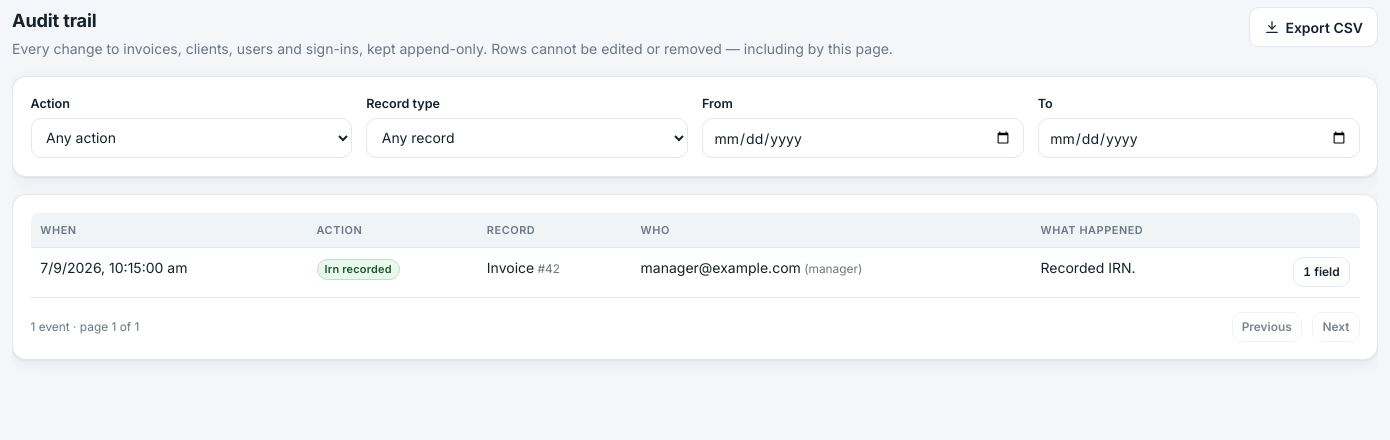
Test: audit trail page › renders a recorded value that is not a from/to pair
What coordinates should you click on to do the following:
click the button "1 field"
I would click on:
 (1322, 272)
Its box is [1293, 257, 1350, 287].
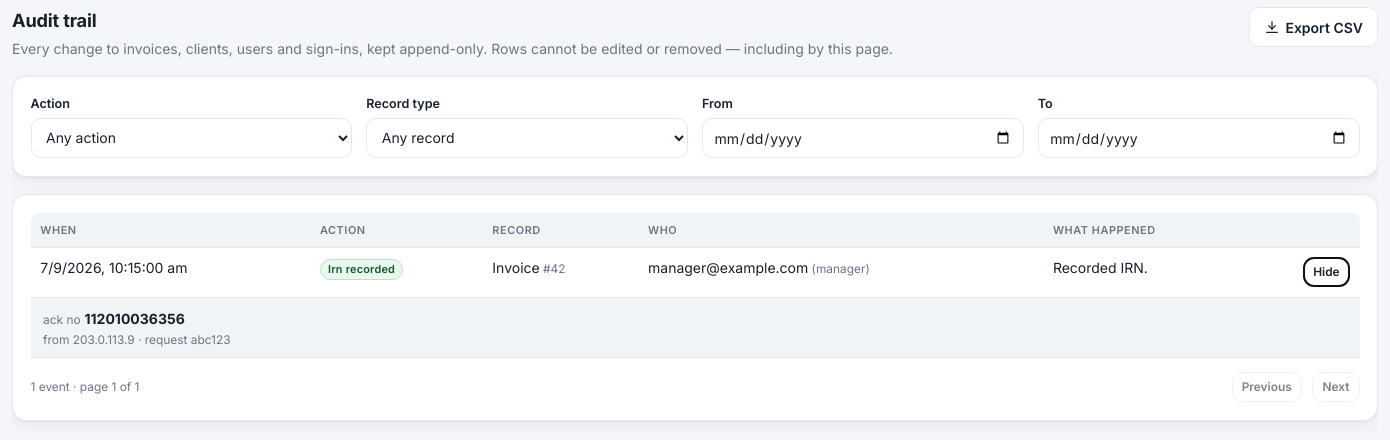
Check: the text "112010036356" is shown, box [84, 310, 185, 327]
